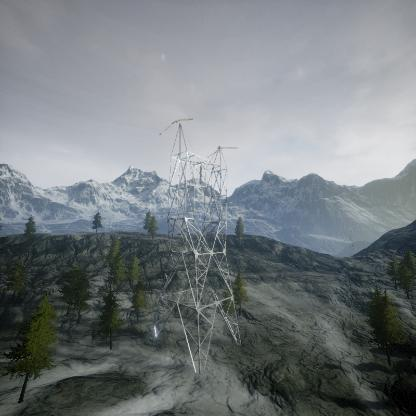tower: (156, 117, 243, 364)
